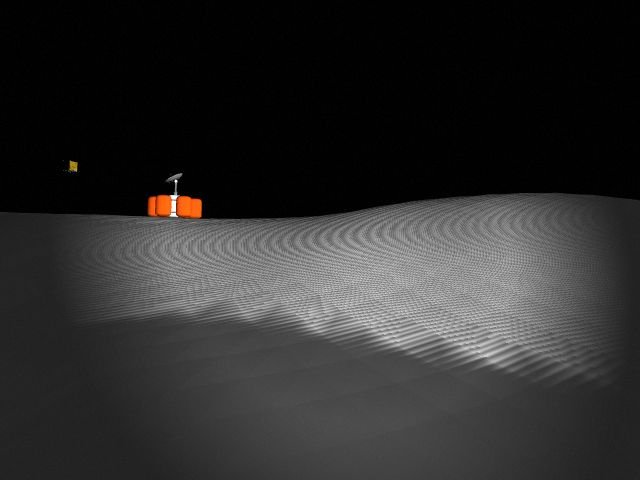cubesat: (64, 159, 79, 175)
